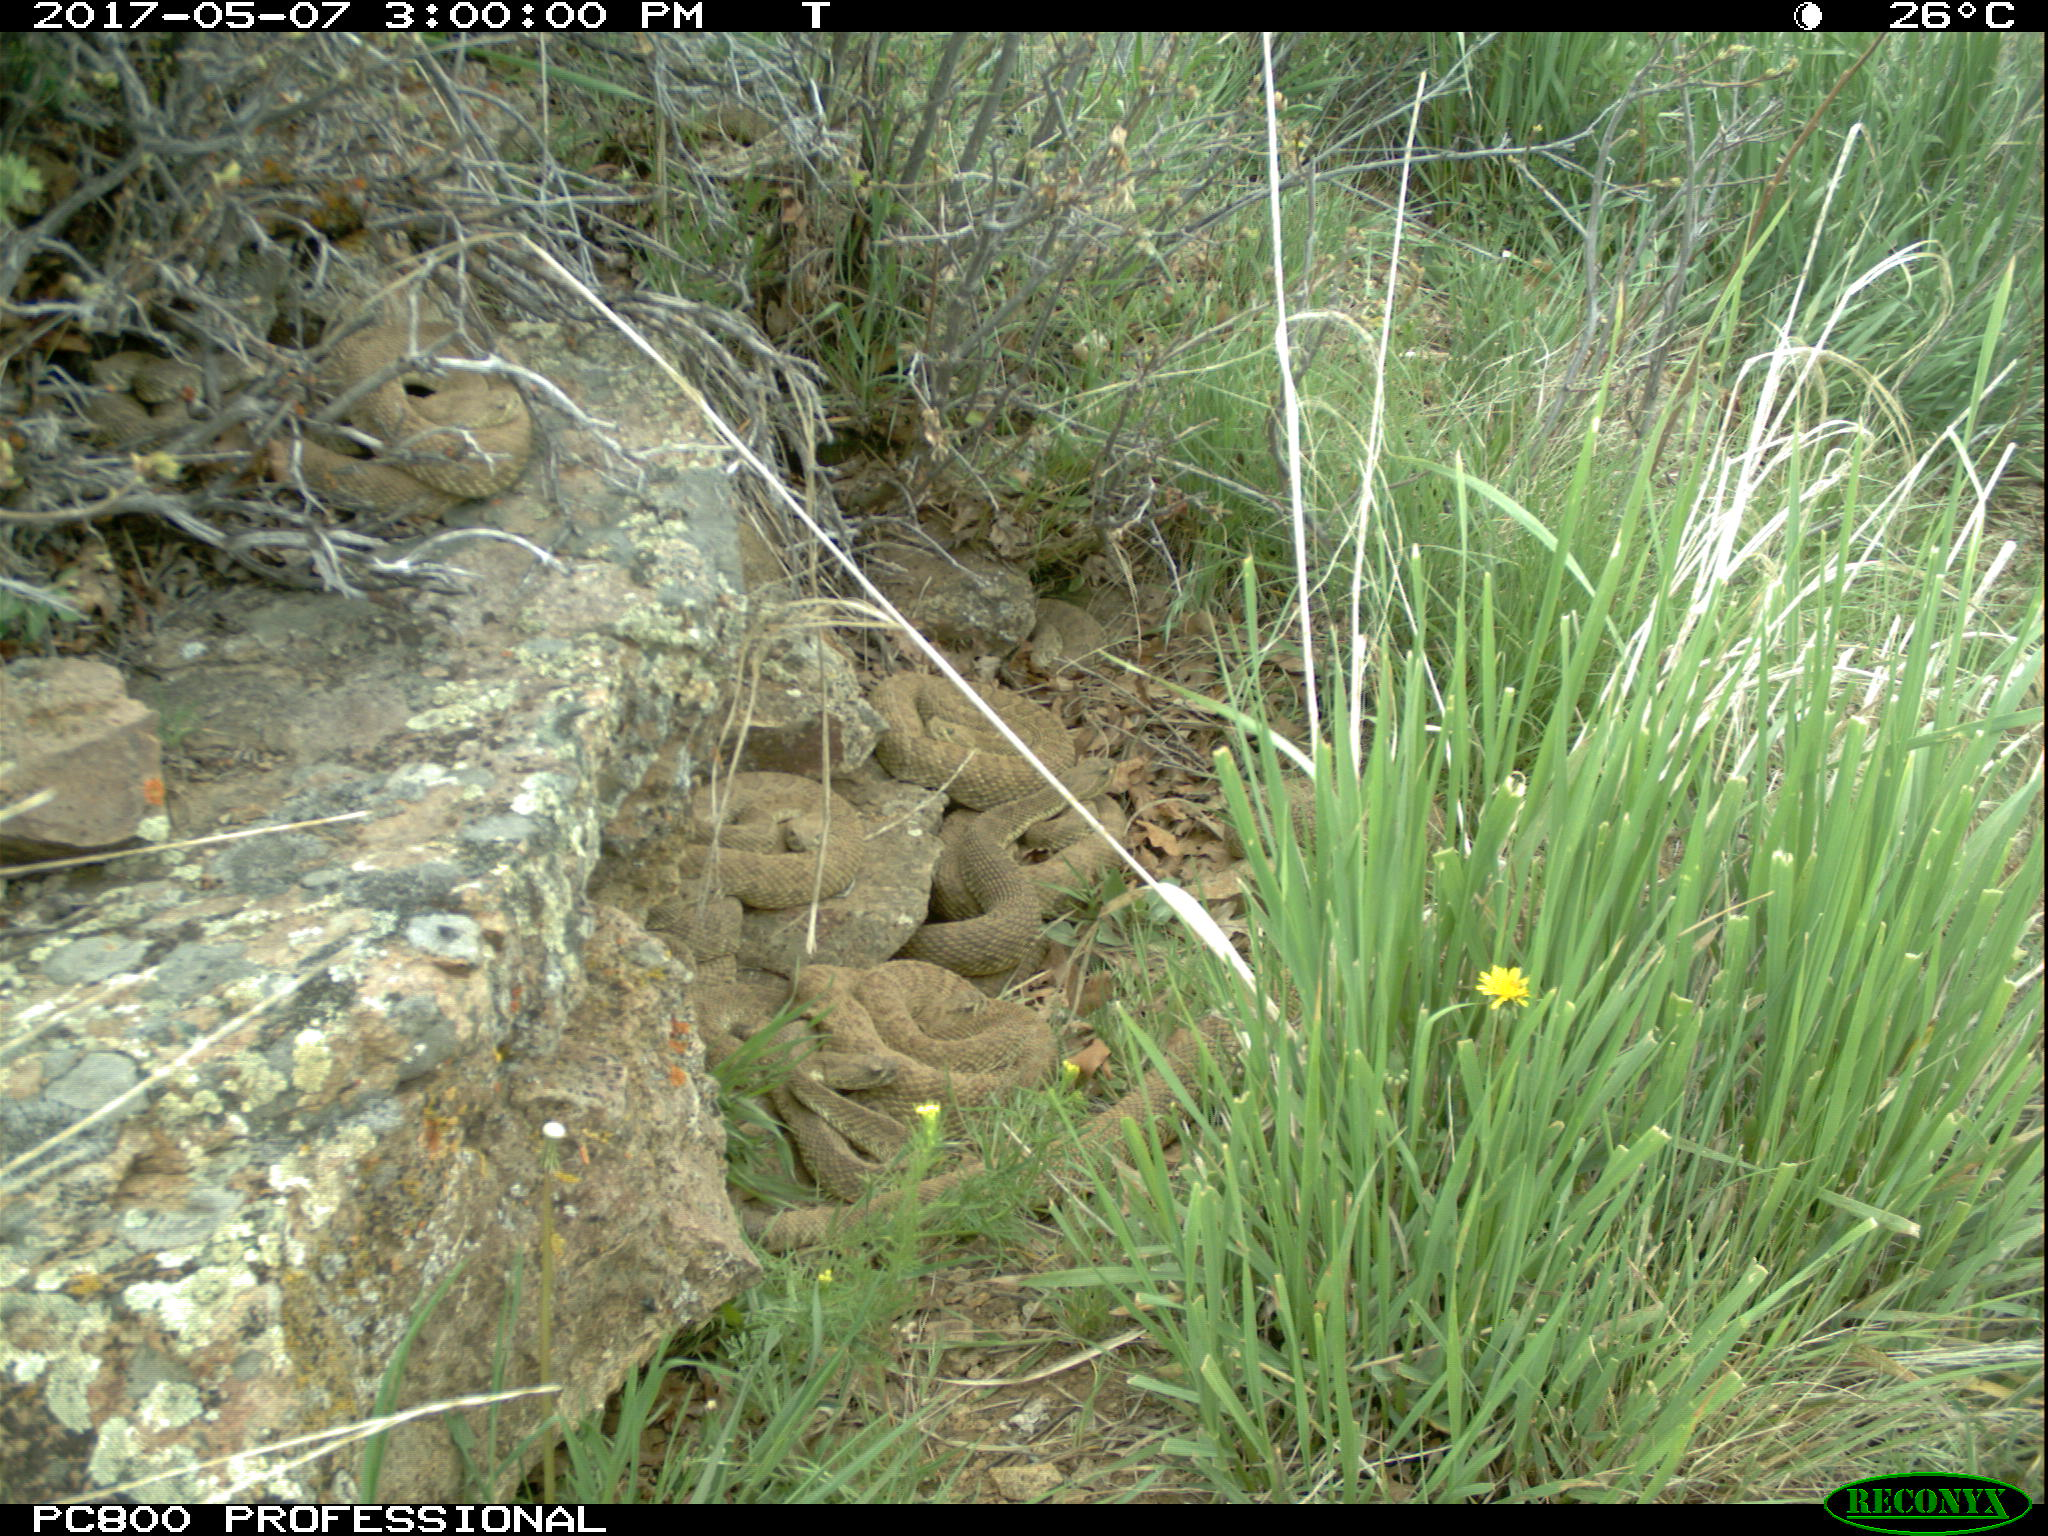snake: (92, 310, 534, 516), (755, 952, 1066, 1129), (919, 729, 1121, 989), (748, 1118, 1090, 1254), (1077, 1000, 1271, 1163), (877, 657, 1079, 800), (689, 762, 868, 921)
